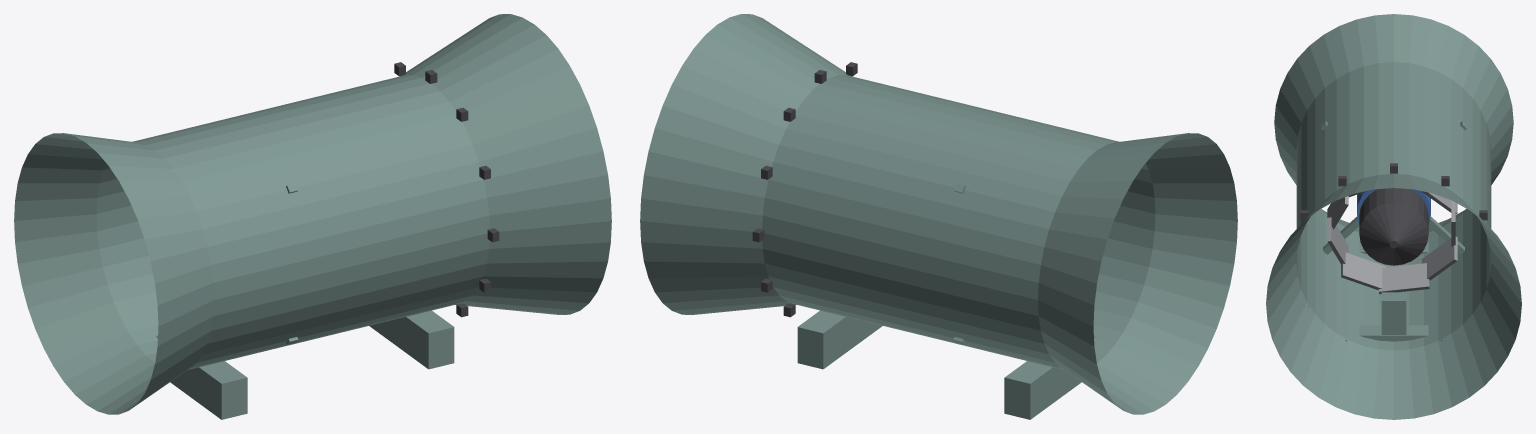
The model's file is EQ_VentFan.glb.
The picture shows the model from 3 angles, left to right: view 1: azimuth 30°, elevation 25°; view 2: azimuth 150°, elevation 25°; view 3: azimuth 270°, elevation 25°; orthographic projection. The views are drawn at different scales.
Parts seen in each view (by area): view 1: VF_Casing; view 2: VF_Casing; view 3: VF_Casing, VF_Impeller.
Part boxes in pixels (bbox=[...]): VF_Casing: bbox=[14, 14, 611, 419]; VF_Casing: bbox=[640, 14, 1237, 419]; VF_Casing: bbox=[1266, 14, 1521, 419]; VF_Impeller: bbox=[1327, 188, 1457, 294].
Bounding box in the file's own units: 5.2 × 3.1 × 3.1.
